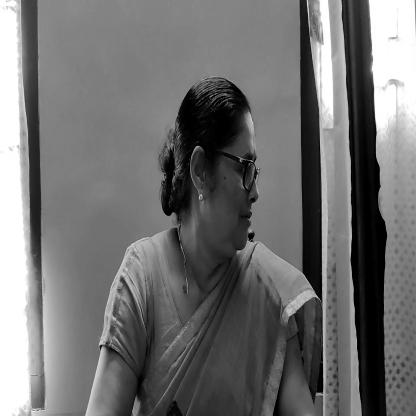Distracted: (158, 74, 257, 247)
